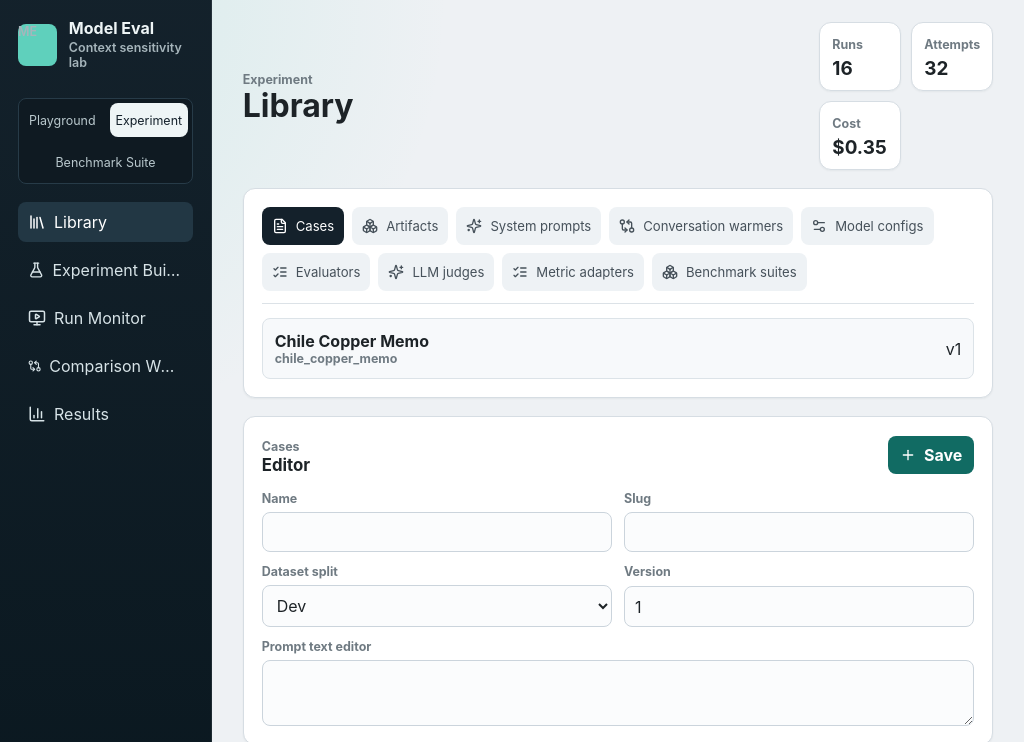
it: App comparison workspace › keeps comparison workspace usable when localStorage rejects reviewer ids
Click the button "Experiment Builder" at coordinates (106, 270), box [18, 250, 193, 290]
(page scrolled)
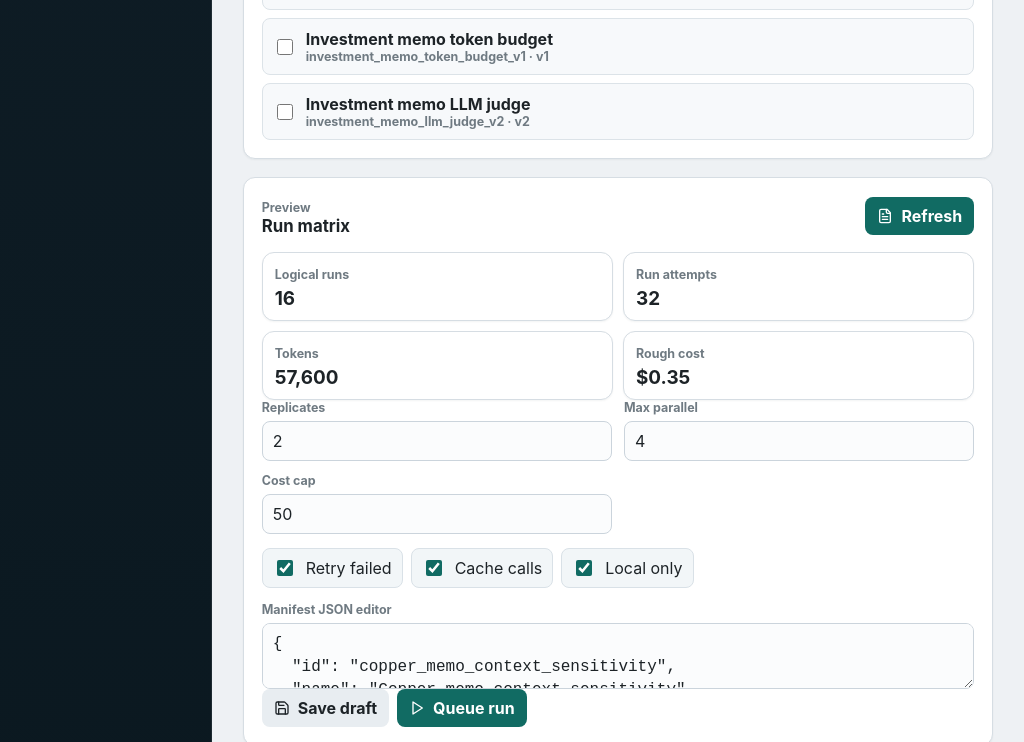
Click the button "Save draft" at coordinates (325, 708), box [262, 689, 389, 727]
(page scrolled)
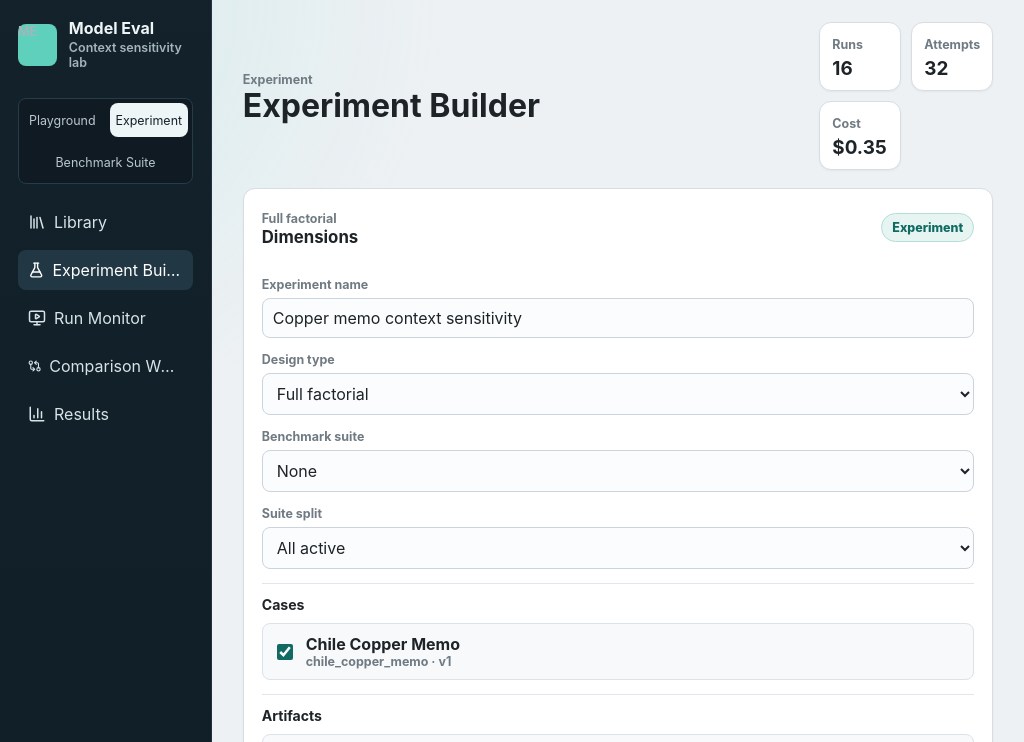
Click the button "Comparison Workspace" at coordinates (106, 366), box [18, 346, 193, 386]
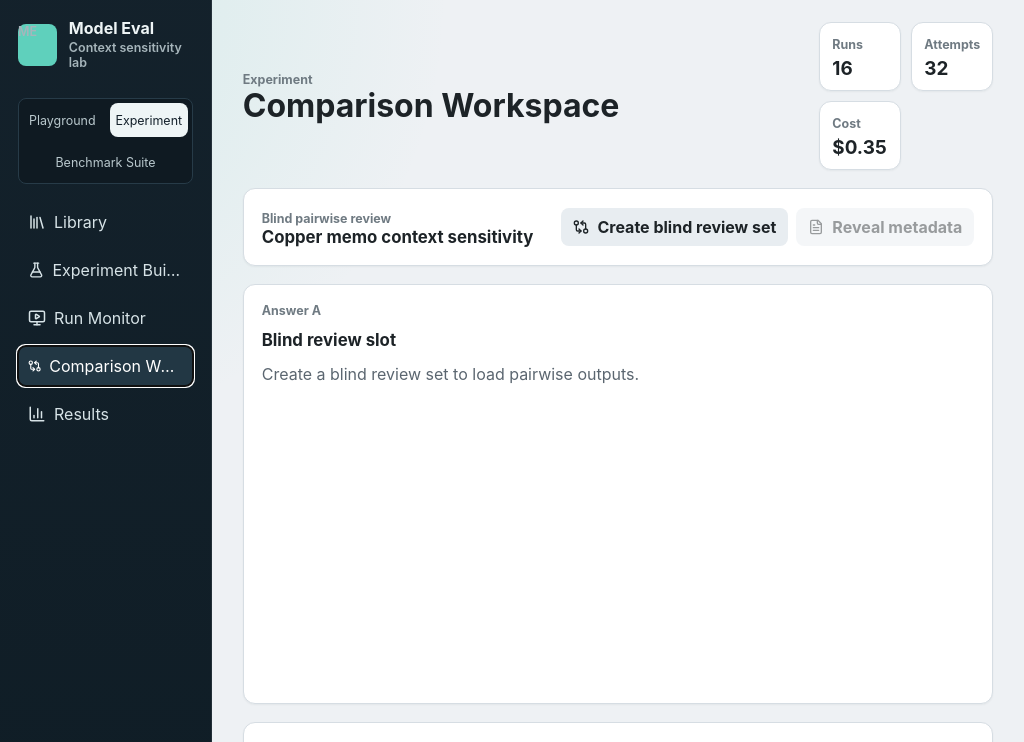
Now the button "Create blind review set" is shown, box [562, 208, 788, 246]
